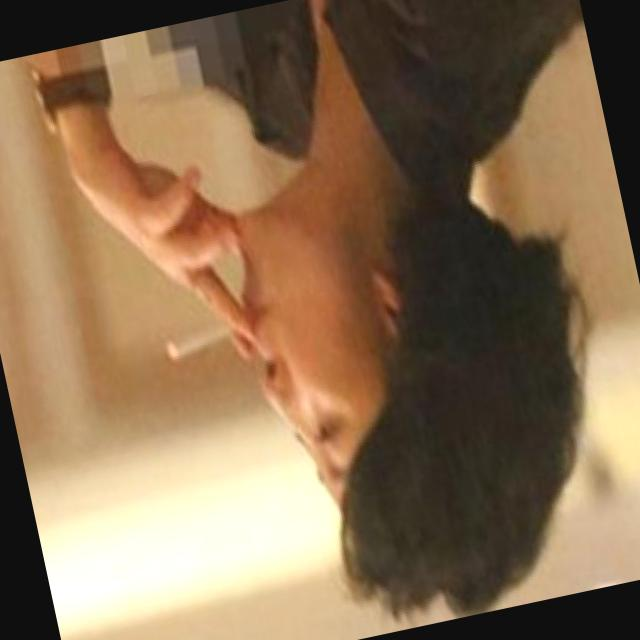cigarette: (152, 306, 262, 377)
